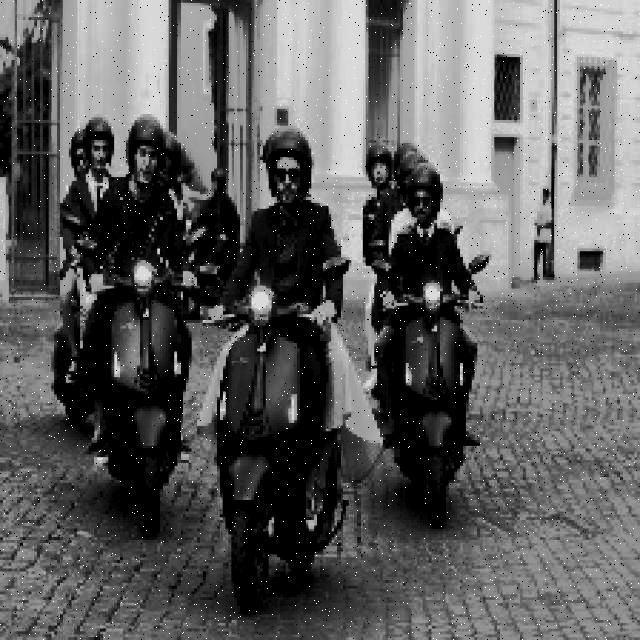Bike: (212, 275, 334, 613), (96, 253, 194, 543), (389, 272, 479, 540)
